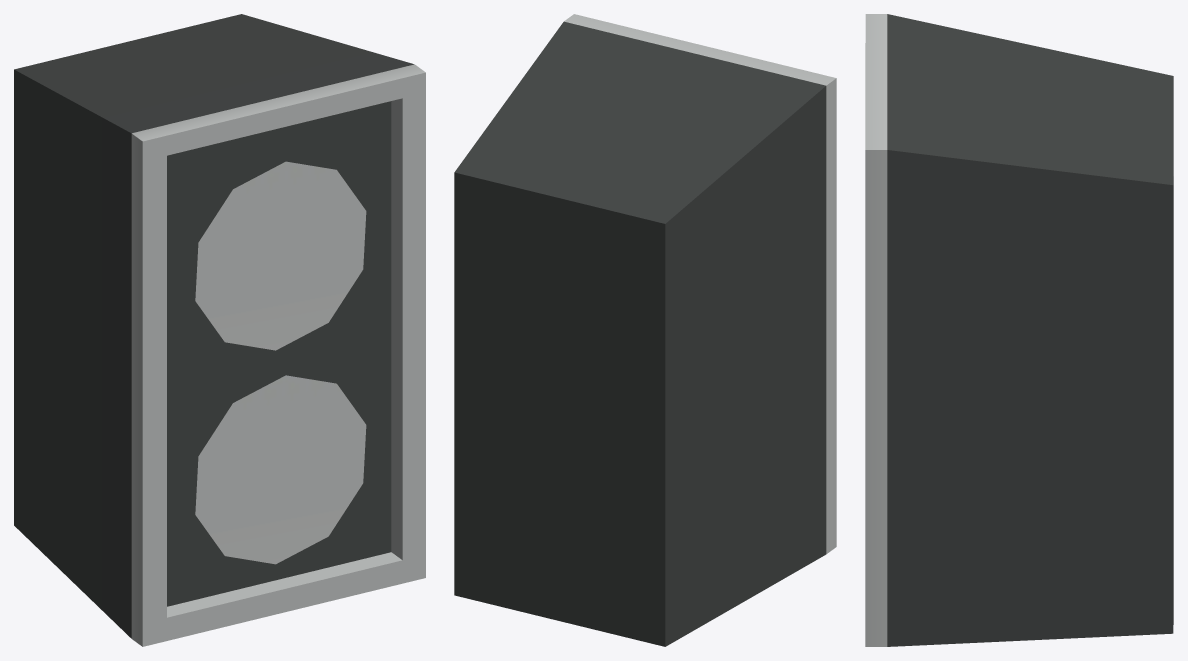
File: pm-speaker.glb
The picture shows the model from 3 angles, left to right: view 1: azimuth 30°, elevation 25°; view 2: azimuth 150°, elevation 25°; view 3: azimuth 270°, elevation 25°; orthographic projection. The views are drawn at different scales.
Parts seen in each view (by area): view 1: Speaker; view 2: Speaker; view 3: Speaker.
Boxes of the visible parts, <box> form: Speaker: <box>14,14,425,646</box>; Speaker: <box>454,14,836,646</box>; Speaker: <box>865,14,1173,646</box>.
Size of what is drawn, in the model's own units: 1.11 by 1.89 by 1.07.
Materials: 1 (1 with a texture image).
